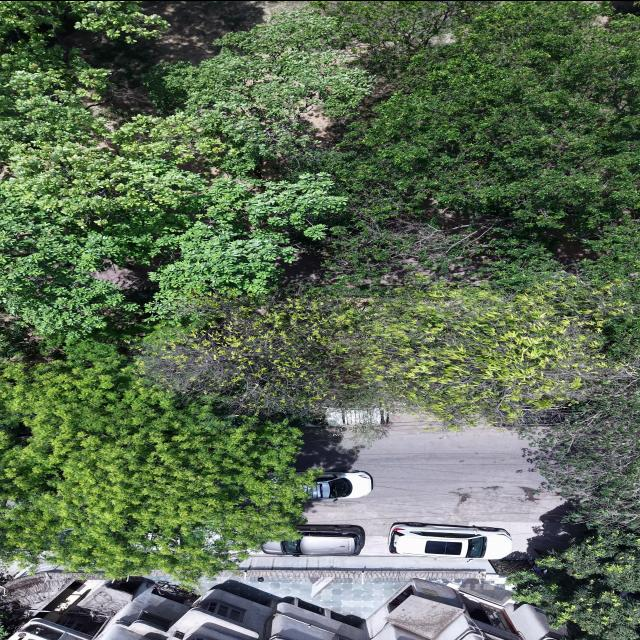DRY_AREA: (66, 1, 306, 113)
VEGETATION_TREE: (0, 1, 639, 639), (236, 1, 639, 639), (150, 1, 638, 426), (0, 1, 345, 581), (0, 1, 345, 337), (318, 1, 638, 274), (0, 341, 311, 581), (140, 276, 626, 427), (348, 277, 625, 426), (513, 222, 639, 536), (147, 10, 372, 166), (139, 286, 357, 413), (519, 376, 639, 530), (510, 530, 639, 639)
